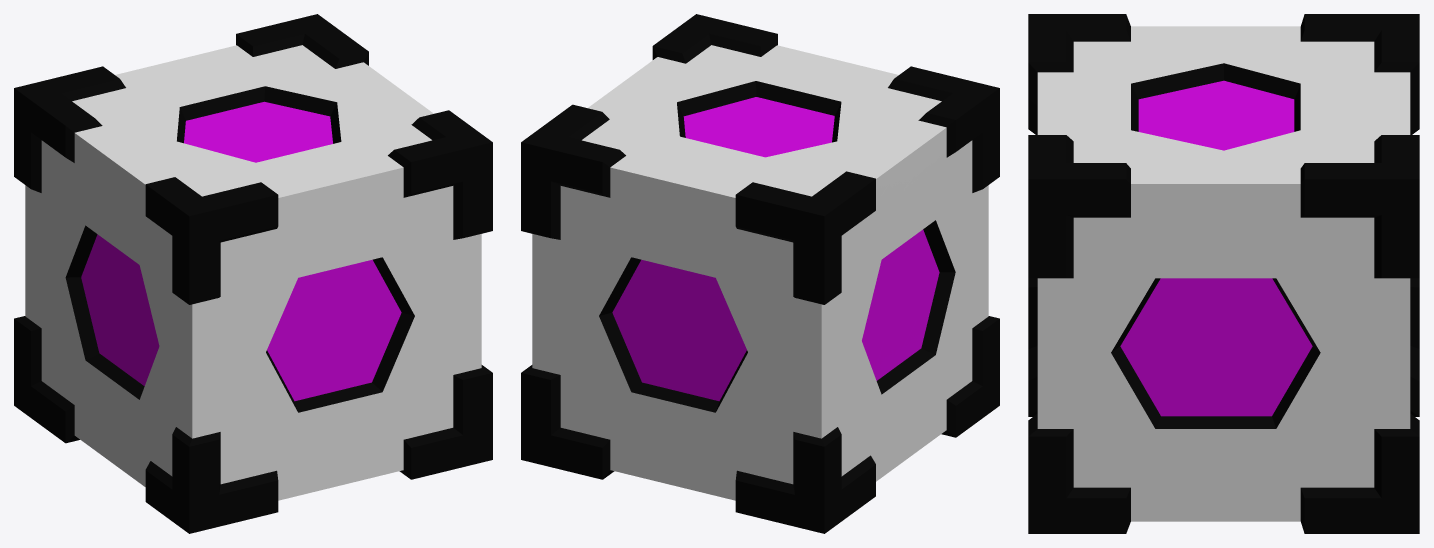
File: Blender_CompanionCube.fbx
3 renders of one model, left to right at view 1: azimuth 30°, elevation 25°; view 2: azimuth 150°, elevation 25°; view 3: azimuth 270°, elevation 25°, orthographic. The views are drawn at different scales.
Visible parts, largest first — view 1: pCube1; view 2: pCube1; view 3: pCube1.
Part boxes in pixels (x1,y1,x2,y2): pCube1: (14,14,492,533); pCube1: (521,14,999,533); pCube1: (1028,14,1419,533).
Bounding box in the file's own units: 105 × 105 × 105.
